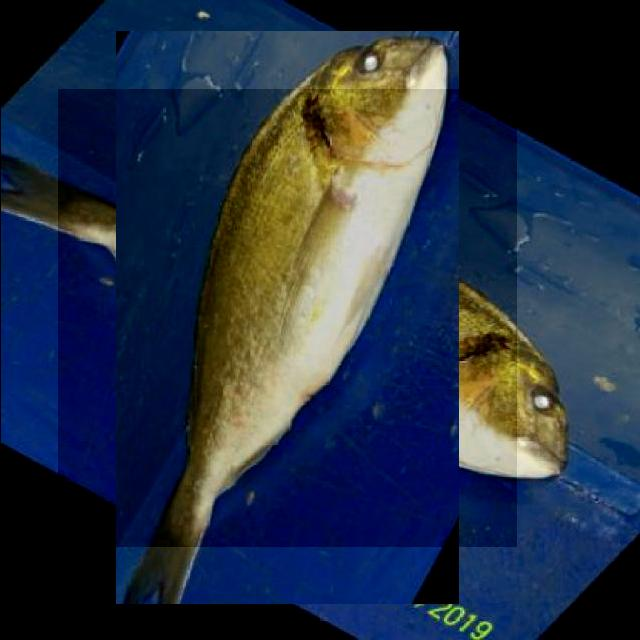Healthy Fish: (57, 89, 516, 547)
